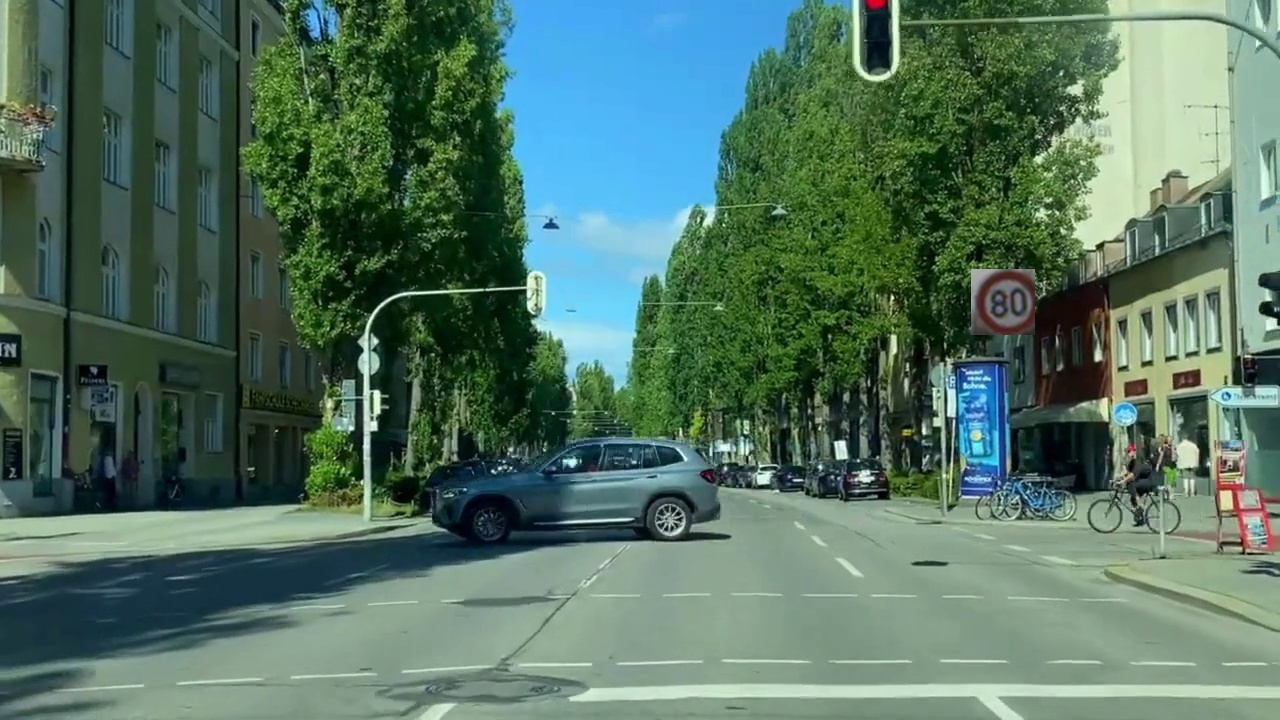Speed 80: (971, 269, 1035, 335)
